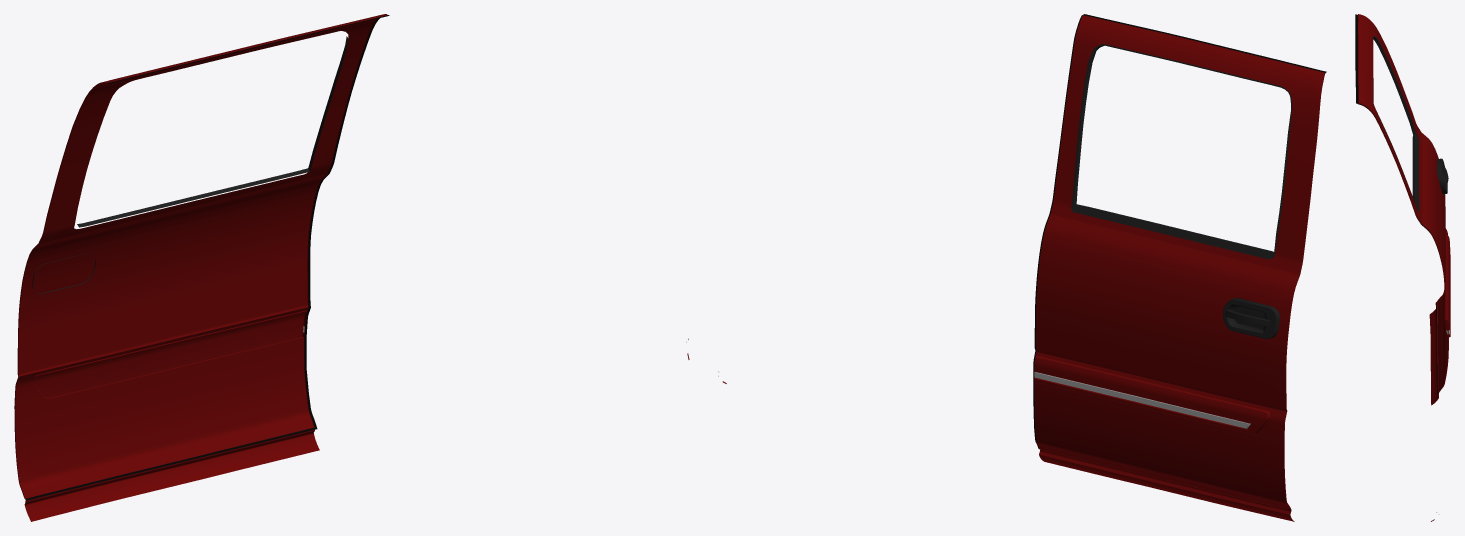
3 renders of one model, left to right at view 1: azimuth 30°, elevation 25°; view 2: azimuth 150°, elevation 25°; view 3: azimuth 270°, elevation 25°, orthographic. The views are drawn at different scales.
Parts seen in each view (by area): view 1: U805_4A_301B_L_U805_4A_301B_L_4_DaS, U805_4A_301B_L_U805_4A_301B_L_4_DaS_E, U805_4A_301B_L_U805_4A_301B_L_6_D, U805_4A_301B_L_U805_4A_301B_L_5_D, U805_4A_301B_L_U805_4A_301B_L_2_DaS_E; view 2: U805_4A_301B_L_U805_4A_301B_L_4_DaS, U805_4A_301B_L_U805_4A_301B_L_2_DaS, U805_4A_301B_L_U805_4A_301B_L_5_D, U805_4A_301B_L_1_D_U805_4A_301B_L, U805_4A_301B_L_U805_4A_301B_L_3_DaS, U805_4A_301B_L_U805_4A_301B_L_6_D, U805_4A_301B_L_U805_4A_301B_L_4_DaS_E, U805_4A_301B_L_U805_4A_301B_L_2_DaS_E; view 3: U805_4A_301B_L_U805_4A_301B_L_4_DaS, U805_4A_301B_L_U805_4A_301B_L_5_D, U805_4A_301B_L_U805_4A_301B_L_4_DaS_E, U805_4A_301B_L_U805_4A_301B_L_6_D, U805_4A_301B_L_U805_4A_301B_L_2_DaS, U805_4A_301B_L_1_D_U805_4A_301B_L, U805_4A_301B_L_U805_4A_301B_L_2_DaS_E.
Boxes of the visible parts, bbox=[...] form: U805_4A_301B_L_U805_4A_301B_L_4_DaS: bbox=[15, 14, 689, 521]; U805_4A_301B_L_U805_4A_301B_L_4_DaS_E: bbox=[14, 14, 387, 498]; U805_4A_301B_L_U805_4A_301B_L_6_D: bbox=[25, 15, 389, 500]; U805_4A_301B_L_U805_4A_301B_L_5_D: bbox=[77, 36, 348, 227]; U805_4A_301B_L_U805_4A_301B_L_2_DaS_E: bbox=[33, 310, 306, 398]; U805_4A_301B_L_U805_4A_301B_L_4_DaS: bbox=[718, 15, 1324, 521]; U805_4A_301B_L_U805_4A_301B_L_2_DaS: bbox=[1034, 356, 1268, 434]; U805_4A_301B_L_U805_4A_301B_L_5_D: bbox=[1071, 44, 1292, 258]; U805_4A_301B_L_1_D_U805_4A_301B_L: bbox=[1222, 297, 1279, 339]; U805_4A_301B_L_U805_4A_301B_L_3_DaS: bbox=[1034, 372, 1250, 428]; U805_4A_301B_L_U805_4A_301B_L_6_D: bbox=[1033, 14, 1326, 509]; U805_4A_301B_L_U805_4A_301B_L_4_DaS_E: bbox=[1036, 73, 1325, 509]; U805_4A_301B_L_U805_4A_301B_L_2_DaS_E: bbox=[1034, 355, 1269, 433]; U805_4A_301B_L_U805_4A_301B_L_4_DaS: bbox=[1358, 14, 1447, 521]; U805_4A_301B_L_U805_4A_301B_L_5_D: bbox=[1373, 36, 1419, 211]; U805_4A_301B_L_U805_4A_301B_L_4_DaS_E: bbox=[1358, 18, 1448, 393]; U805_4A_301B_L_U805_4A_301B_L_6_D: bbox=[1355, 14, 1447, 394]; U805_4A_301B_L_U805_4A_301B_L_2_DaS: bbox=[1446, 235, 1450, 335]; U805_4A_301B_L_1_D_U805_4A_301B_L: bbox=[1437, 158, 1448, 194]; U805_4A_301B_L_U805_4A_301B_L_2_DaS_E: bbox=[1445, 234, 1450, 337].
Size of the model in its own units: 190 by 130 by 36.49.
